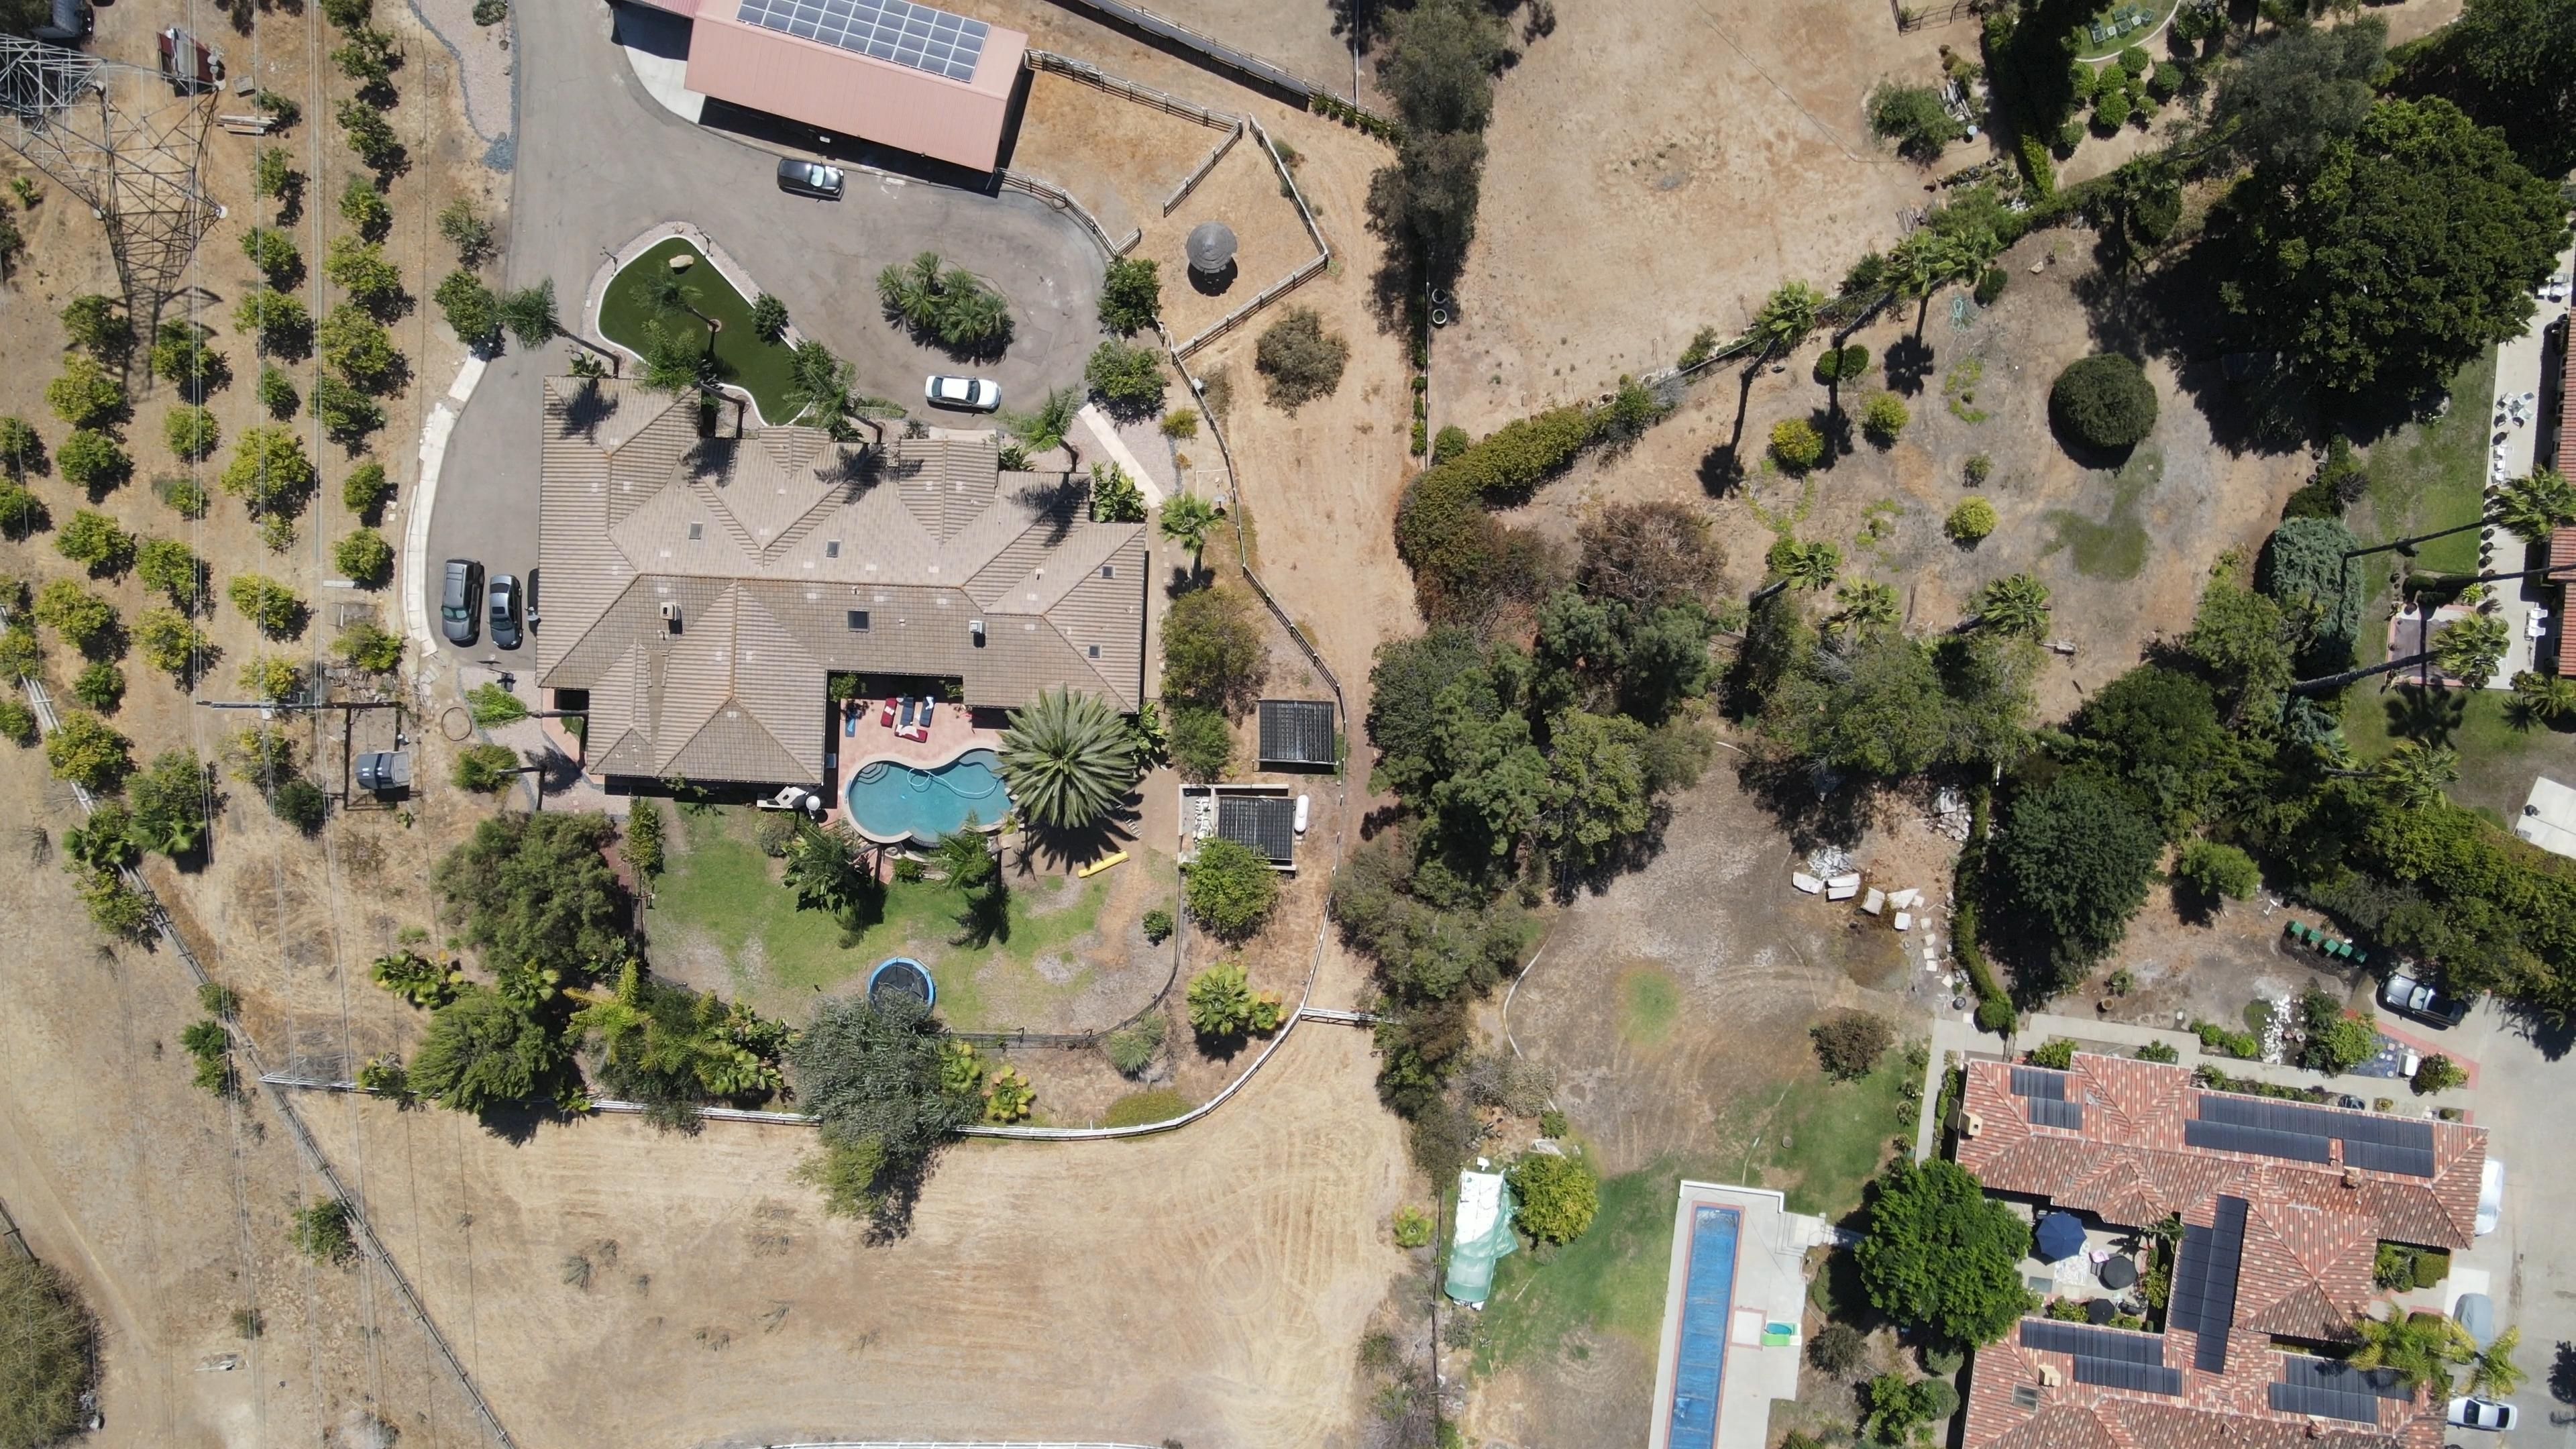panel: (734, 0, 989, 85), (2183, 1093, 2436, 1177), (2169, 1192, 2249, 1373), (2020, 1320, 2183, 1396), (2268, 1355, 2417, 1422), (1219, 794, 1295, 862), (1258, 701, 1336, 764), (2010, 1067, 2082, 1131)
